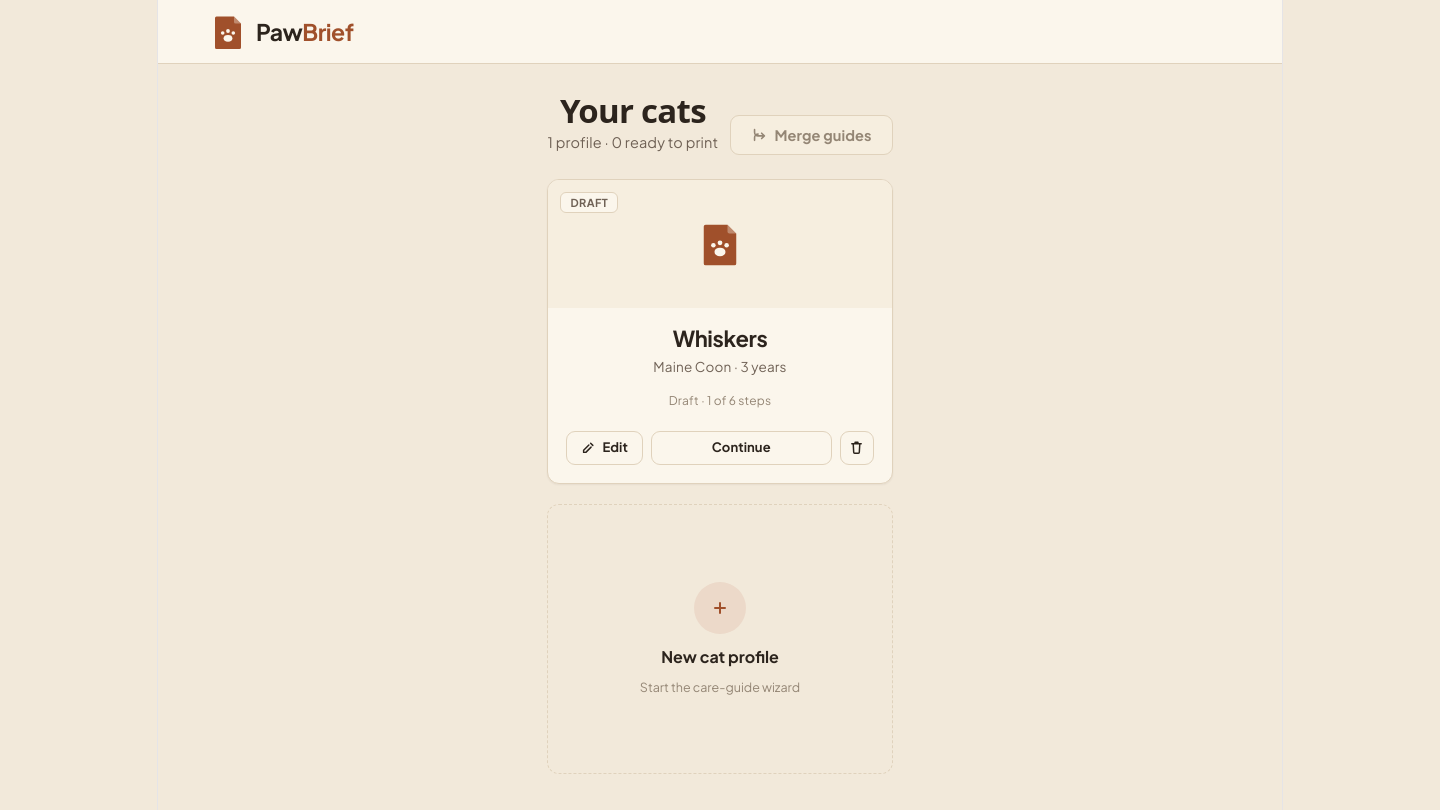
Test: DashboardPage delete with ConfirmModal › clicking Delete opens a ConfirmModal without immediately removing the profile
Click the button named "delete" at (856, 448), box [840,431,874,465]
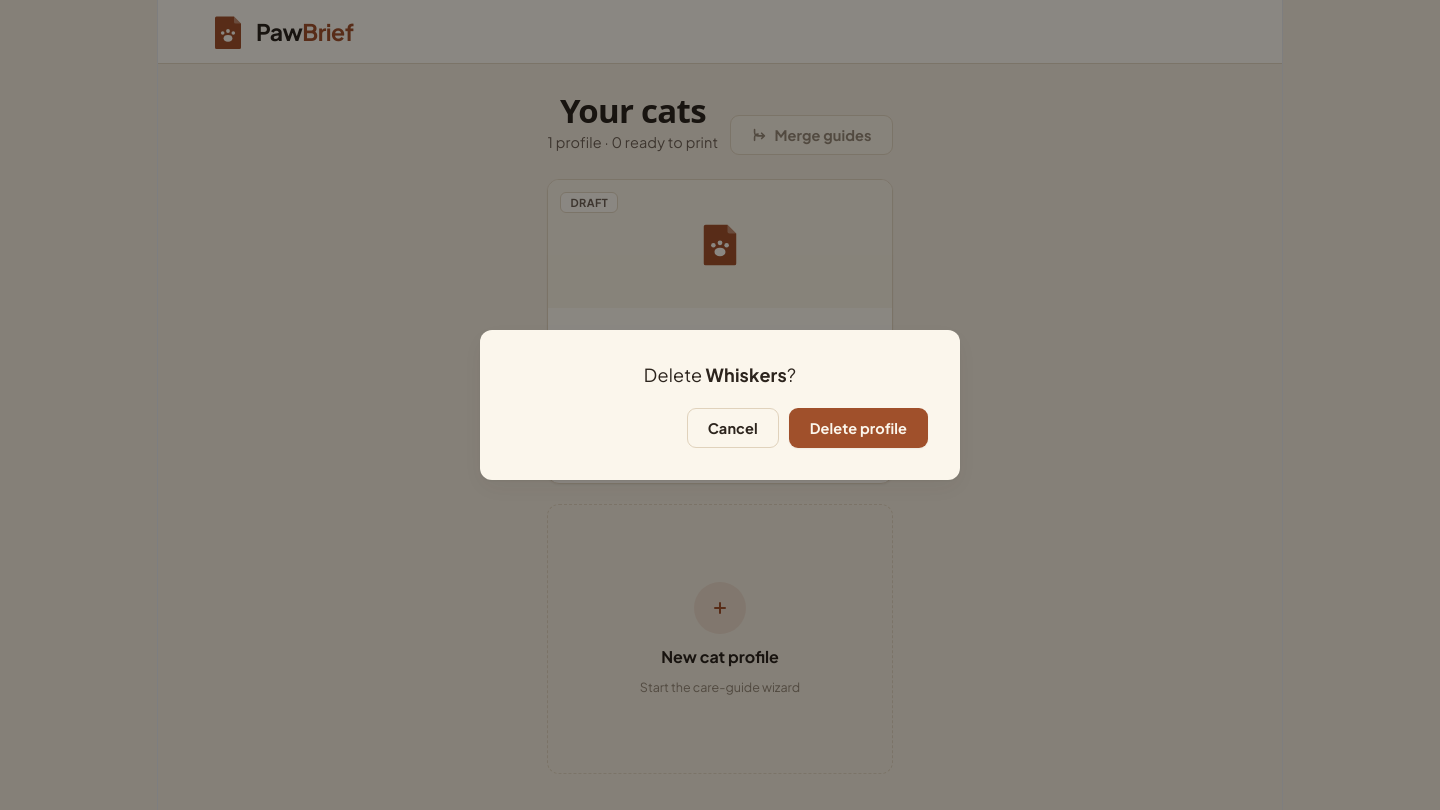
Expected: the text "Whiskers" below "1 profile · 0 ready to print" is shown, [673,324,767,352]
Expected: the dialog is shown, [480,330,960,480]
